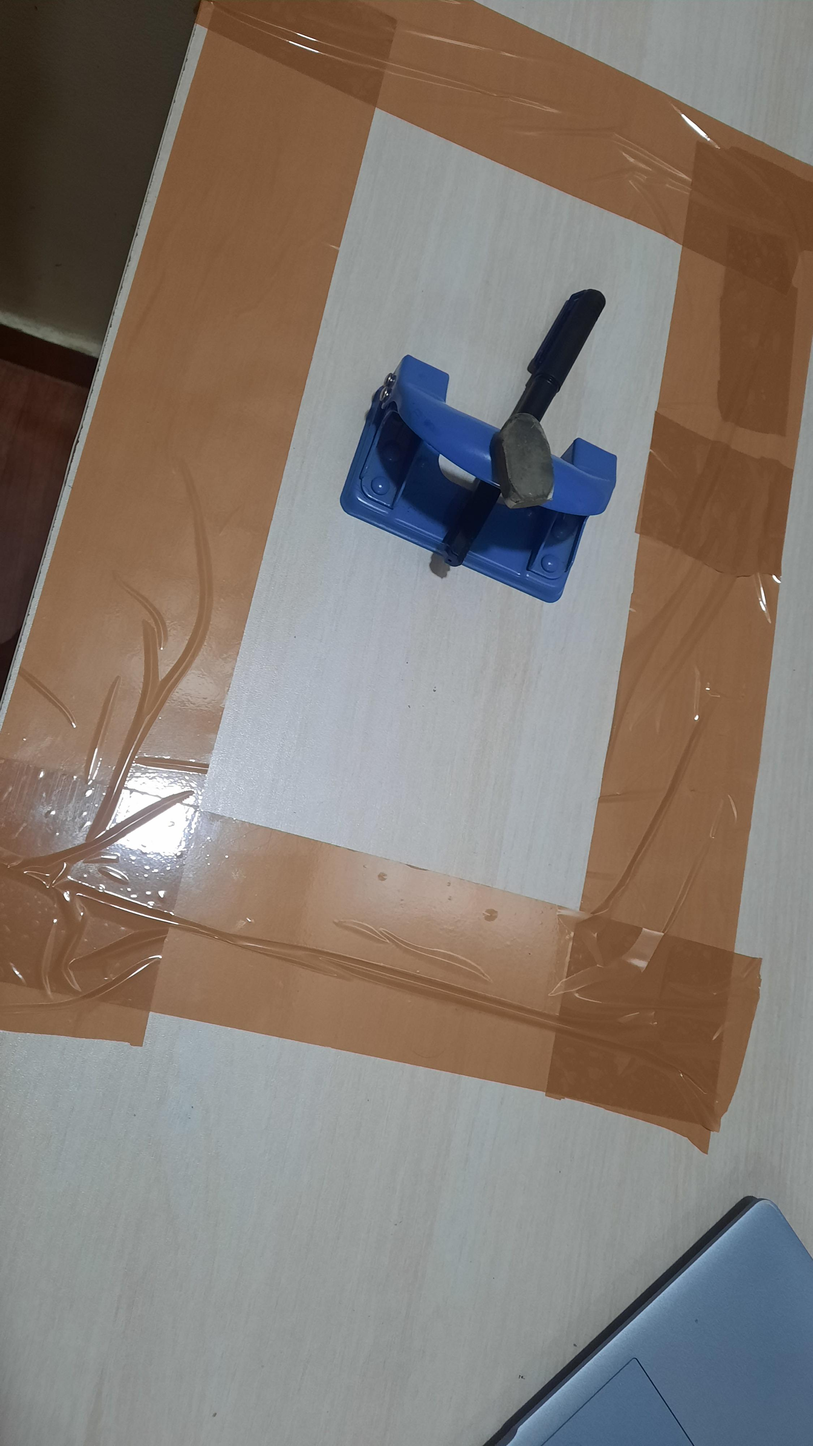Eraser: (490, 413, 555, 510)
Pen: (441, 289, 606, 567)
Punch: (339, 354, 618, 604)
